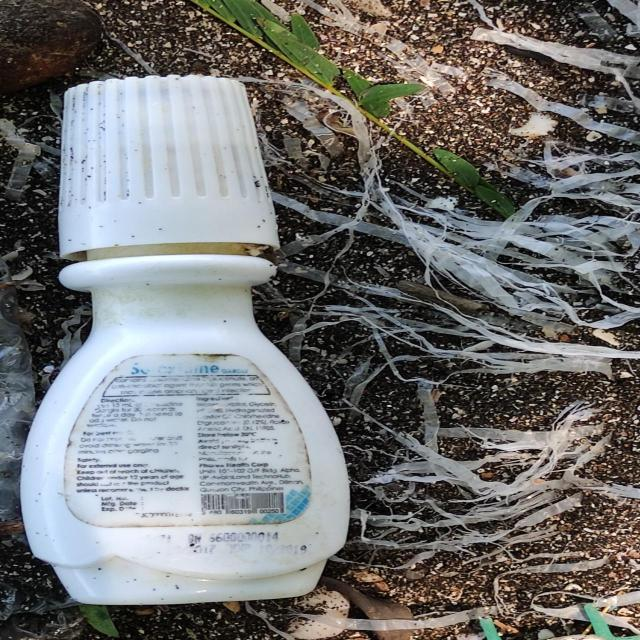plastic_waste: (16, 72, 358, 613)
